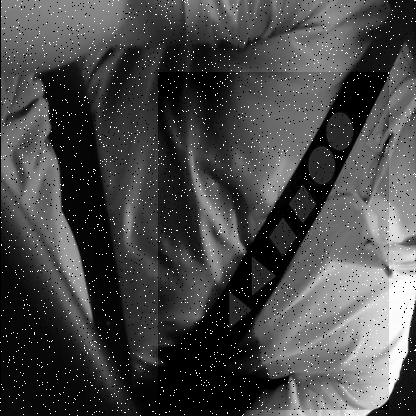seatbelt: (142, 3, 416, 414)
